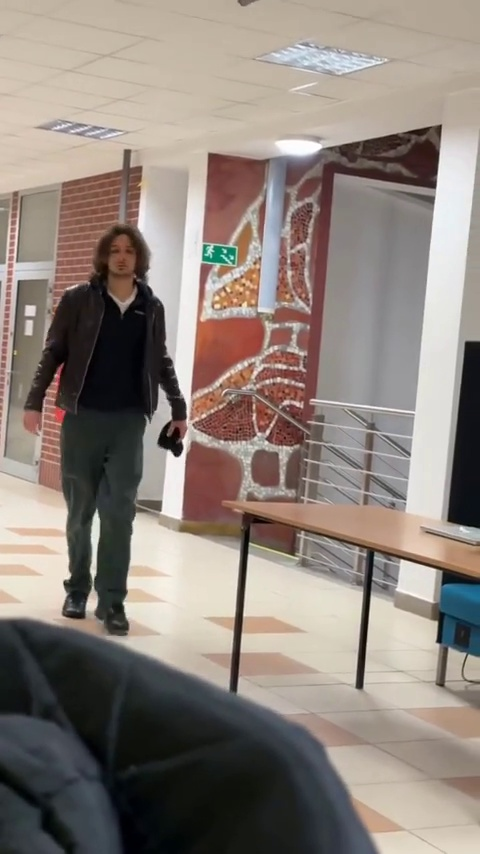no vest: (29, 231, 194, 634)
